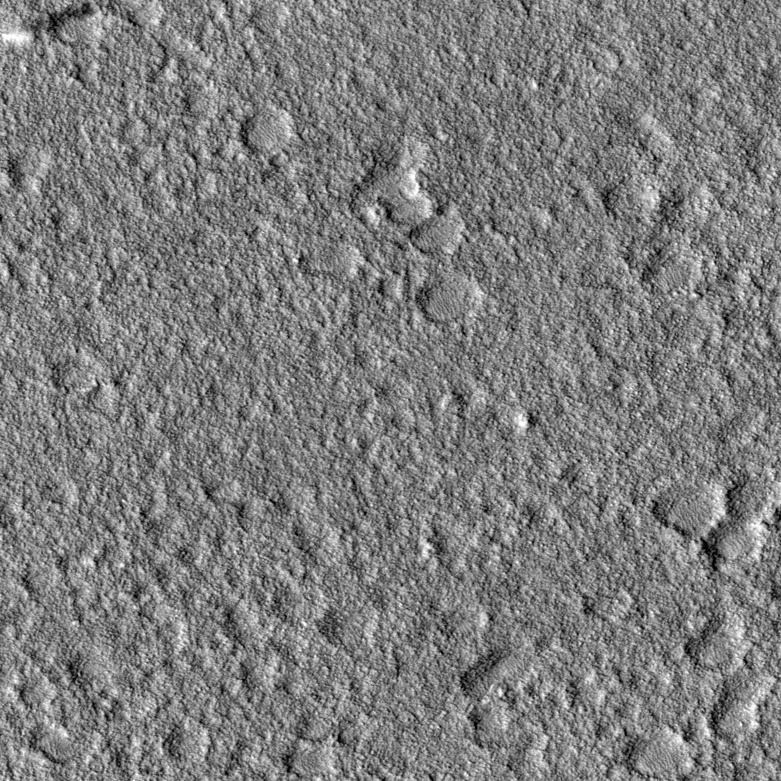dust_devil: (1, 1, 100, 49)
